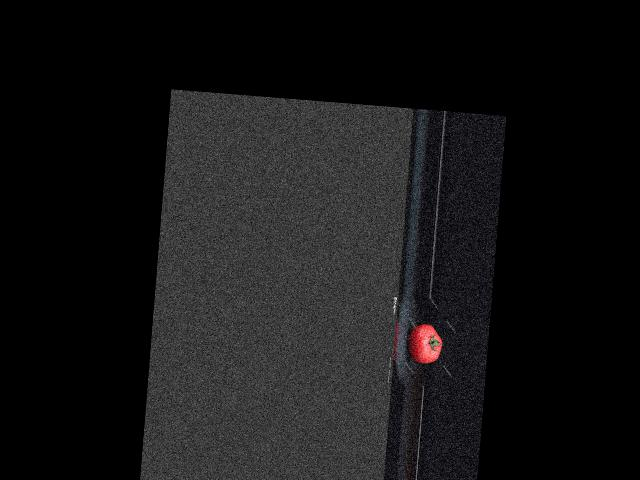tomato: (406, 323, 444, 365)
